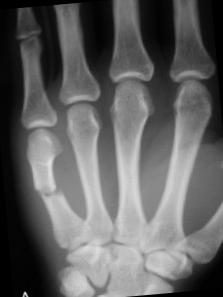fracture: (32, 181, 64, 203)
